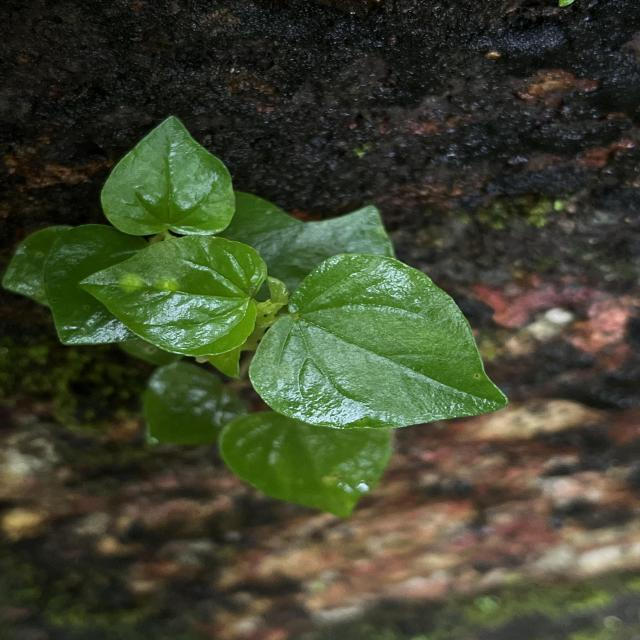Peperomia pellucida: (245, 252, 510, 432), (76, 234, 270, 358), (99, 112, 238, 236)
